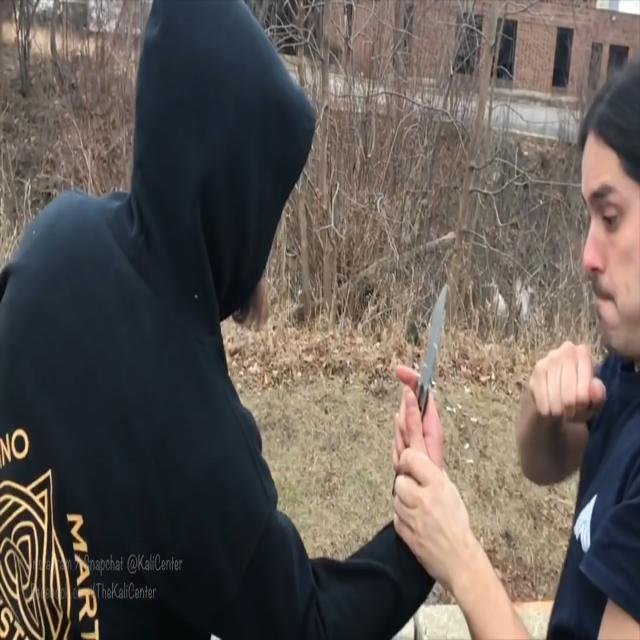knife: (420, 281, 458, 437)
